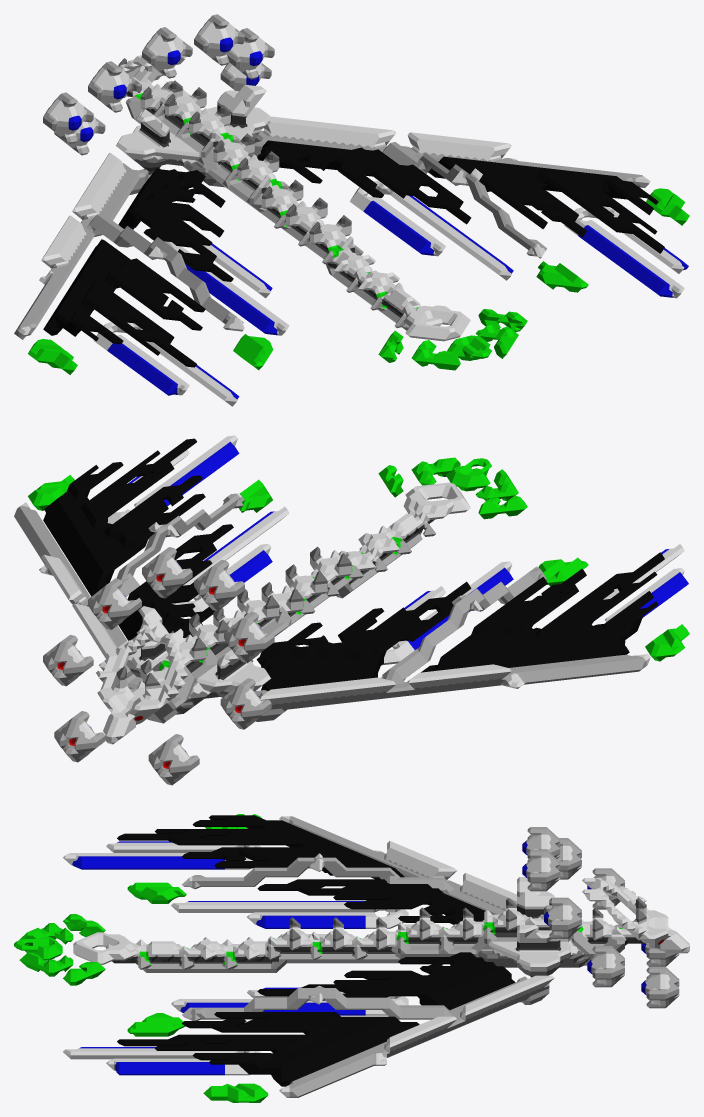
File: ship_khaled_hashhan.fbx
3 renders of one model, top to bottom at view 1: azimuth 30°, elevation 25°; view 2: azimuth 150°, elevation 25°; view 3: azimuth 270°, elevation 25°, orthographic. The views are drawn at different scales.
Visible parts, largest first — view 1: ship_khaled_hashhan.mc; view 2: ship_khaled_hashhan.mc; view 3: ship_khaled_hashhan.mc.
Part boxes in pixels (<box>): ship_khaled_hashhan.mc: <box>14,14,689,406</box>; ship_khaled_hashhan.mc: <box>14,435,689,785</box>; ship_khaled_hashhan.mc: <box>14,814,689,1102</box>.
Size of the model in its own units: 12400 by 3000 by 12500.
